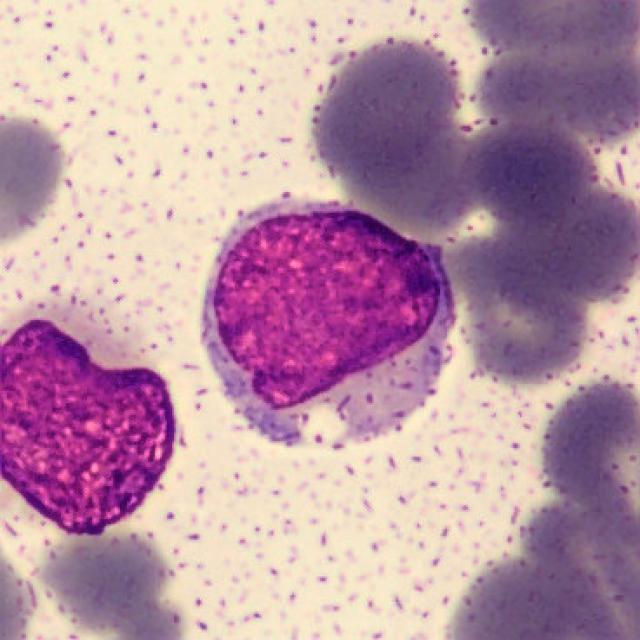Mieloblasto: (200, 202, 454, 446)
Restos celulares: (0, 320, 179, 538)
